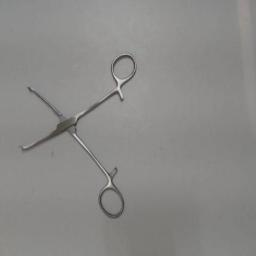Allis Tissue Forceps: (13, 44, 141, 224)
